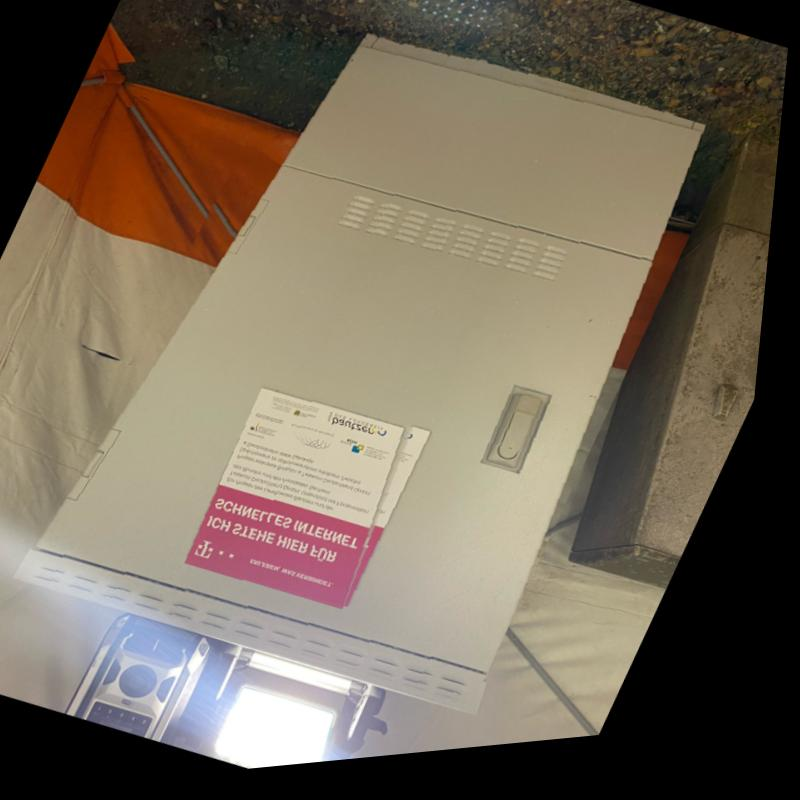NT-Gehause: (28, 45, 699, 717)
Steaker: (194, 391, 419, 617)
